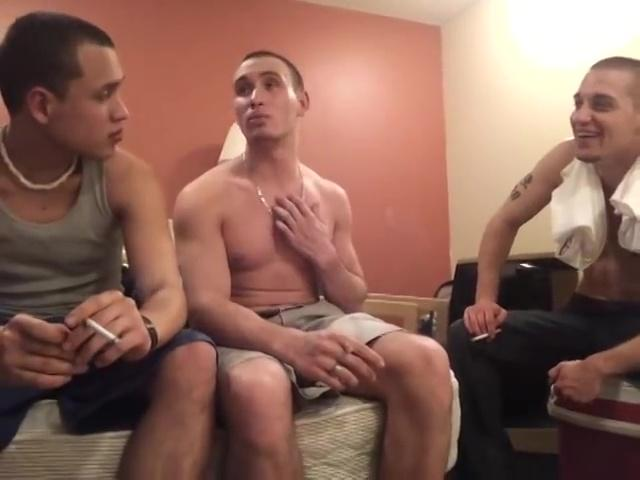cigarette: (82, 318, 124, 344), (469, 327, 505, 341)
